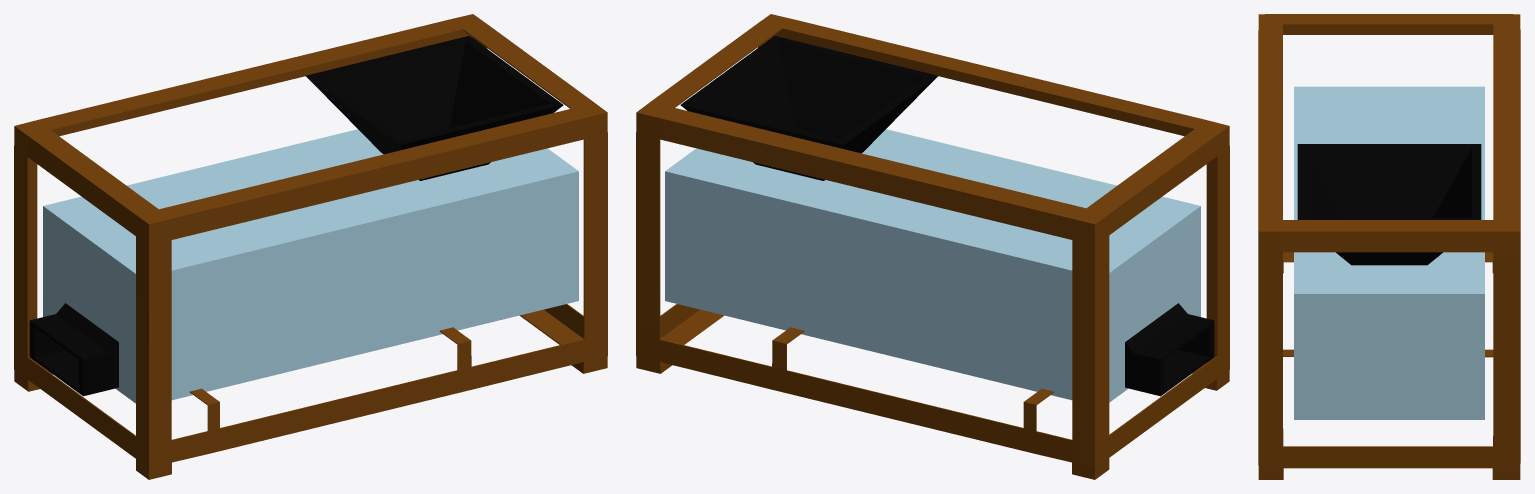
The model's file is Diamond Filter Machine.fbx.
3 views of the same model, side by side, from view 1: azimuth 30°, elevation 25°; view 2: azimuth 150°, elevation 25°; view 3: azimuth 270°, elevation 25° (orthographic). The views are drawn at different scales.
Parts seen in each view (by area): view 1: Outer_glass, Side, Main_machine; view 2: Outer_glass, Side, Main_machine; view 3: Outer_glass, Side, Main_machine.
Part boxes in pixels (bbox=[...]): Outer_glass: bbox=[43, 129, 578, 403]; Side: bbox=[14, 14, 607, 479]; Main_machine: bbox=[29, 36, 563, 396]; Outer_glass: bbox=[665, 129, 1200, 402]; Side: bbox=[636, 14, 1229, 479]; Main_machine: bbox=[680, 36, 1214, 396]; Outer_glass: bbox=[1294, 86, 1484, 419]; Side: bbox=[1258, 14, 1520, 479]; Main_machine: bbox=[1297, 144, 1481, 265].
Bounding box in the file's own units: 418 × 211 × 202.
